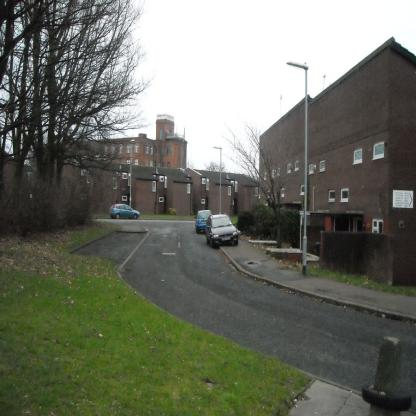Car: (206, 213, 240, 250), (110, 205, 142, 222), (196, 209, 212, 233)
